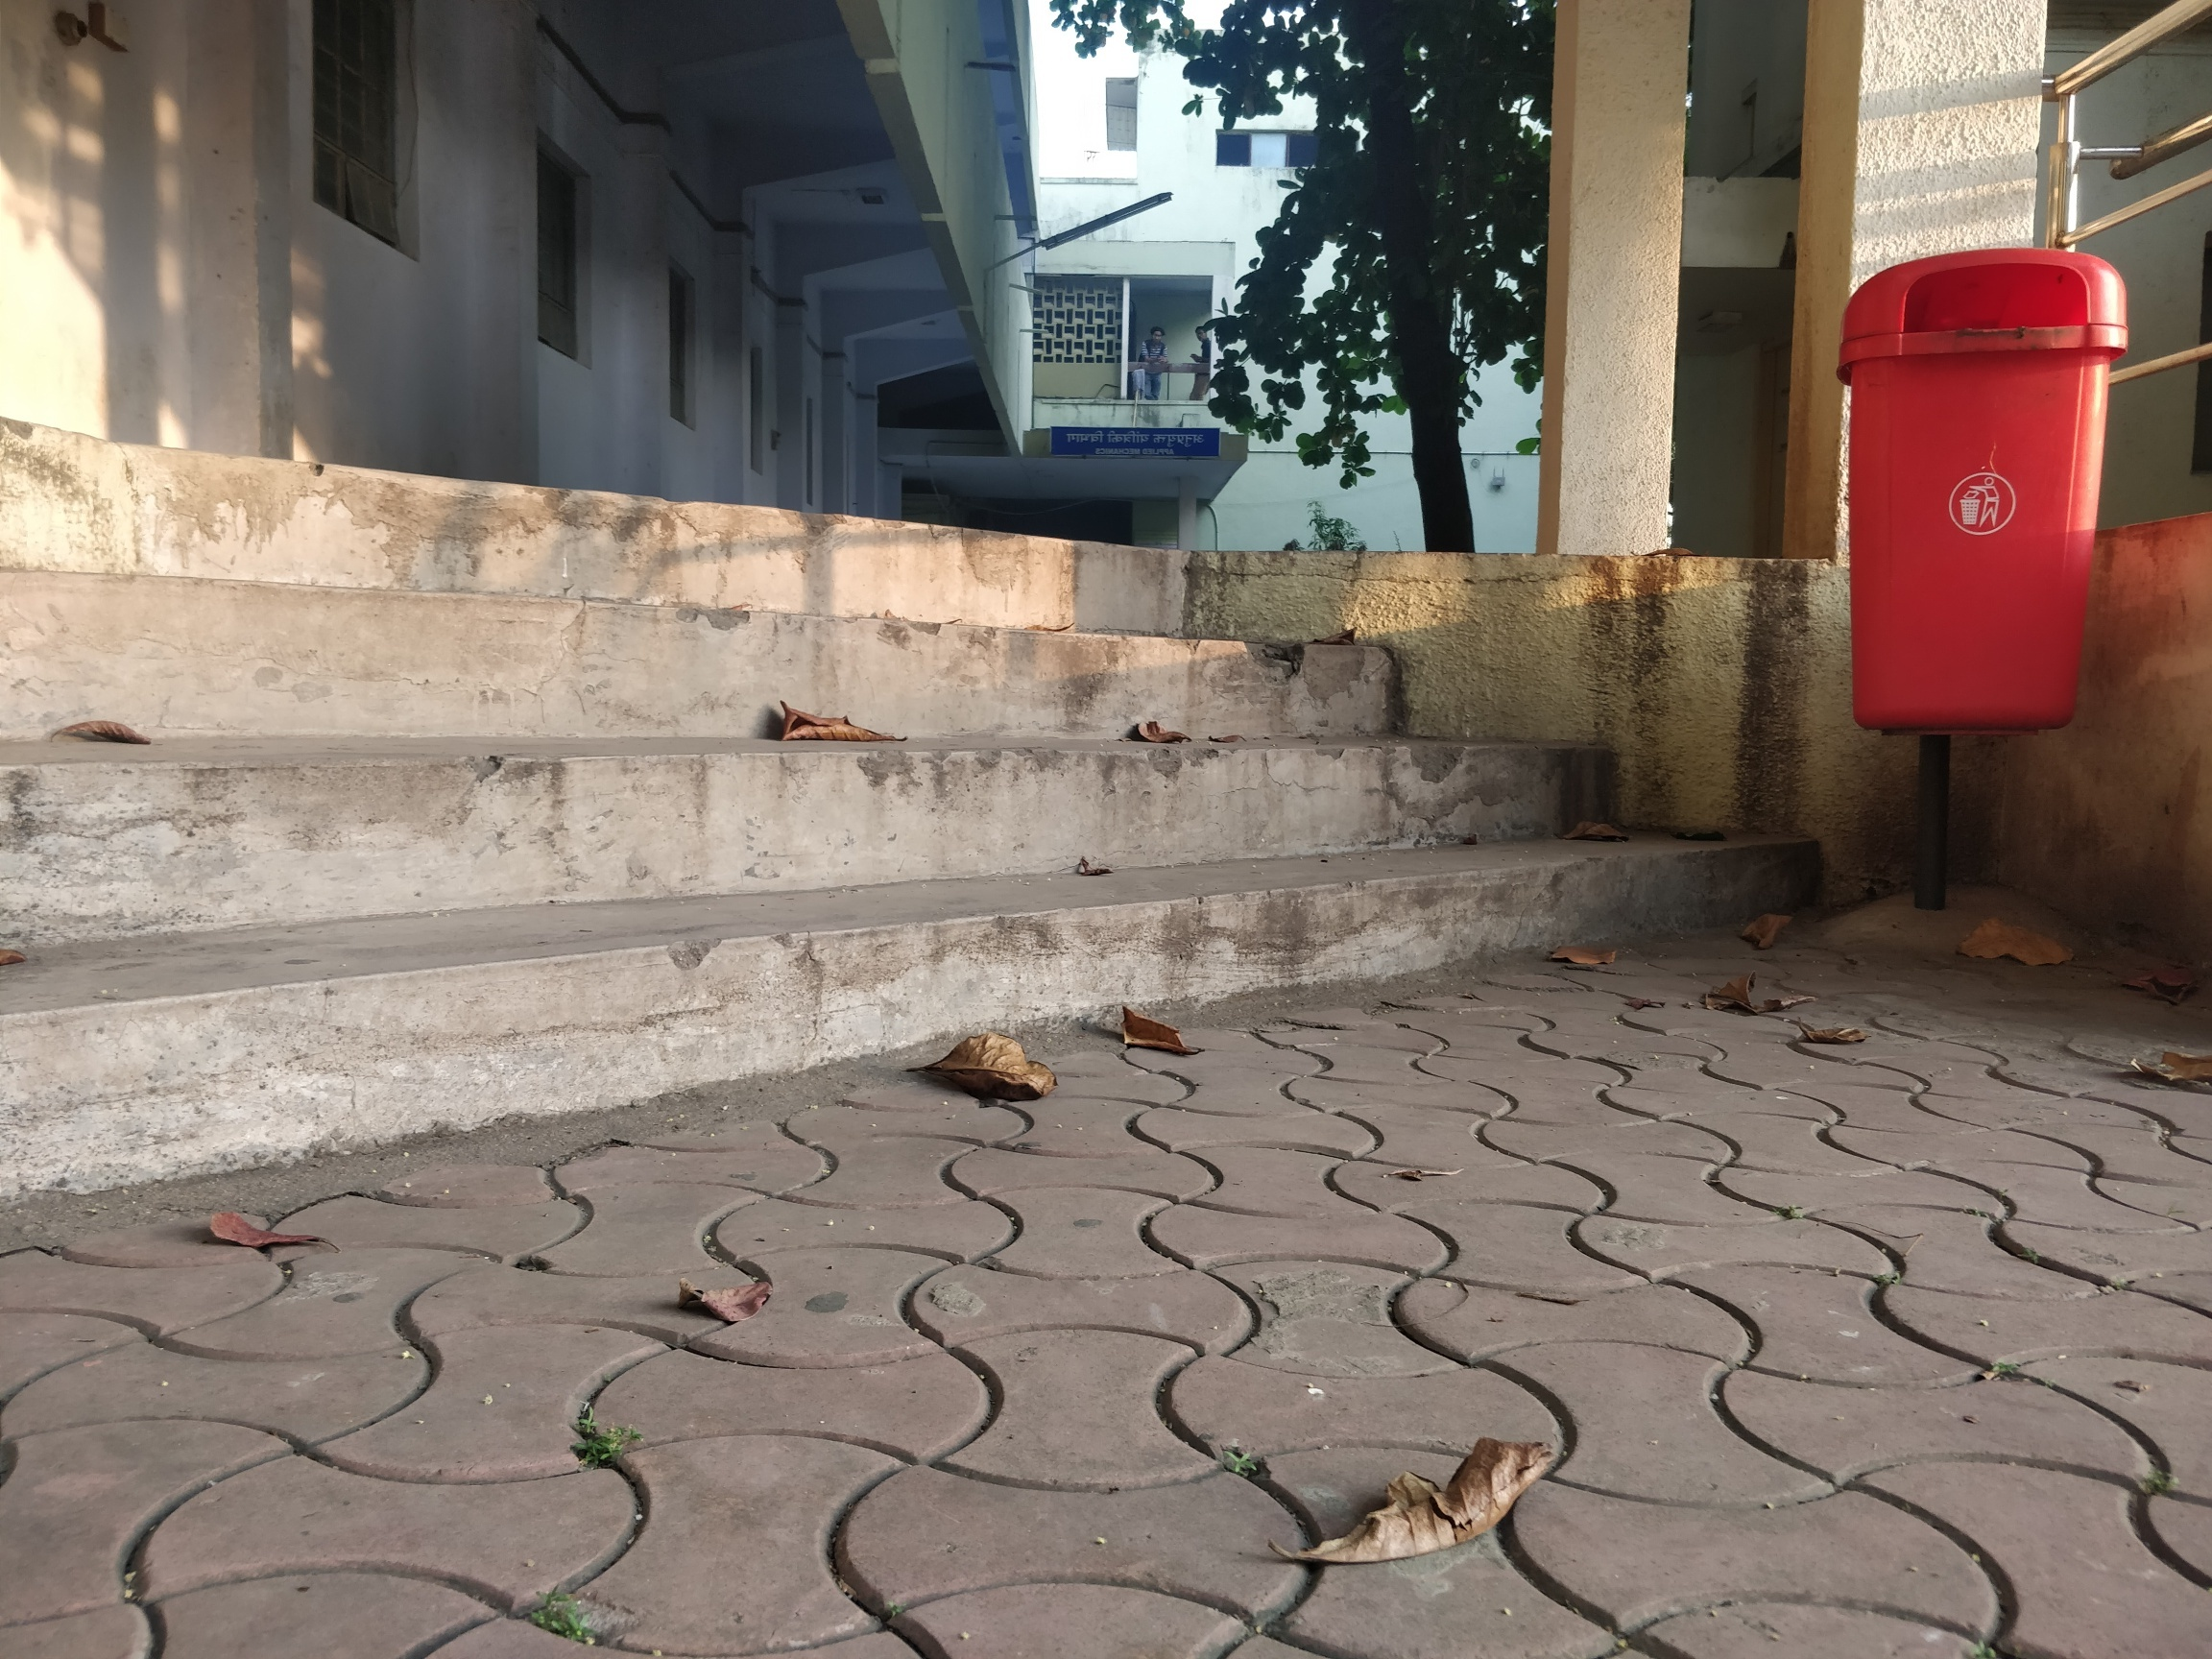stairs_up: (2, 410, 1829, 1098)
